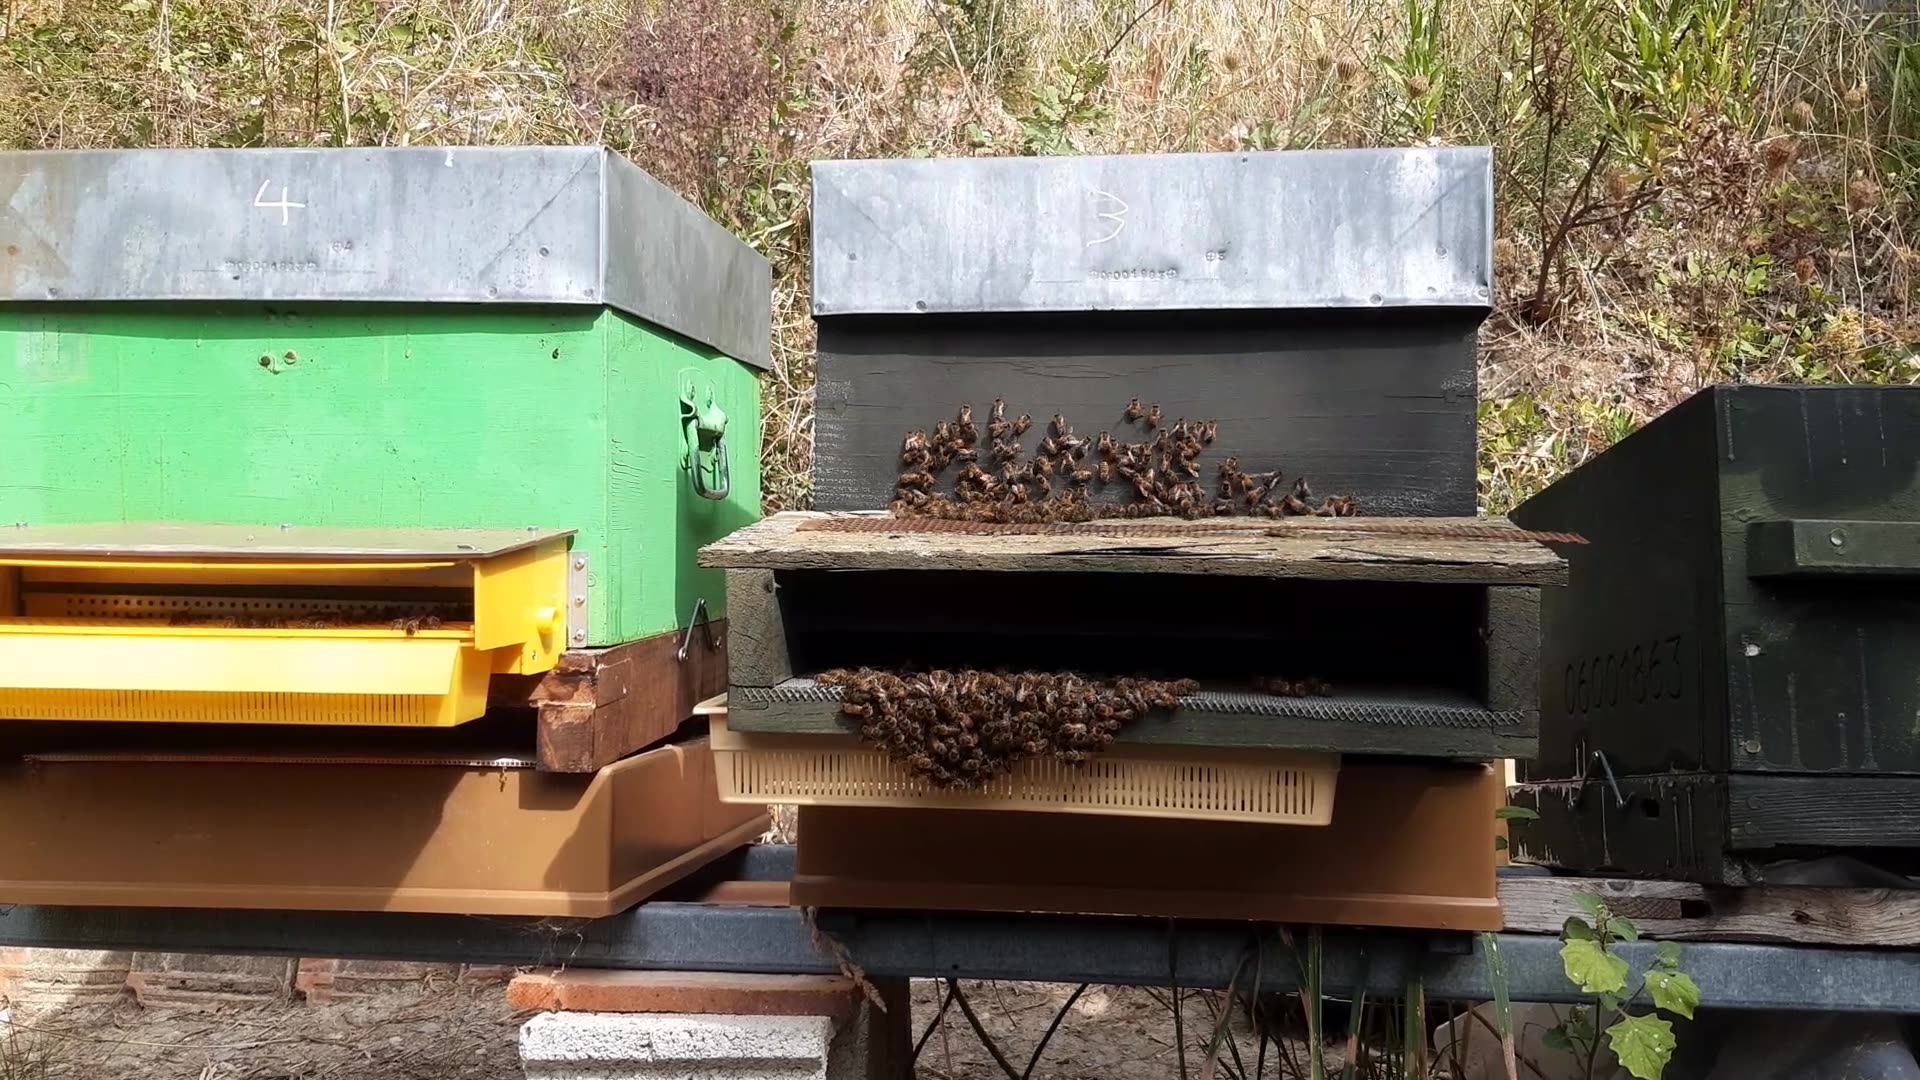bee: (934, 708, 1019, 796), (928, 678, 1013, 767), (1092, 674, 1182, 736), (811, 674, 889, 738), (1044, 720, 1108, 790), (1234, 469, 1317, 520), (1058, 476, 1120, 534), (947, 410, 1011, 462), (923, 479, 984, 527), (1156, 479, 1209, 534), (1040, 418, 1105, 458), (1143, 419, 1195, 462)
